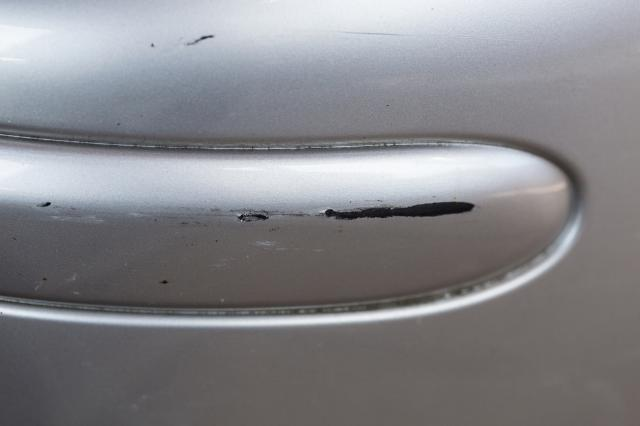scratch: (33, 195, 482, 227)
